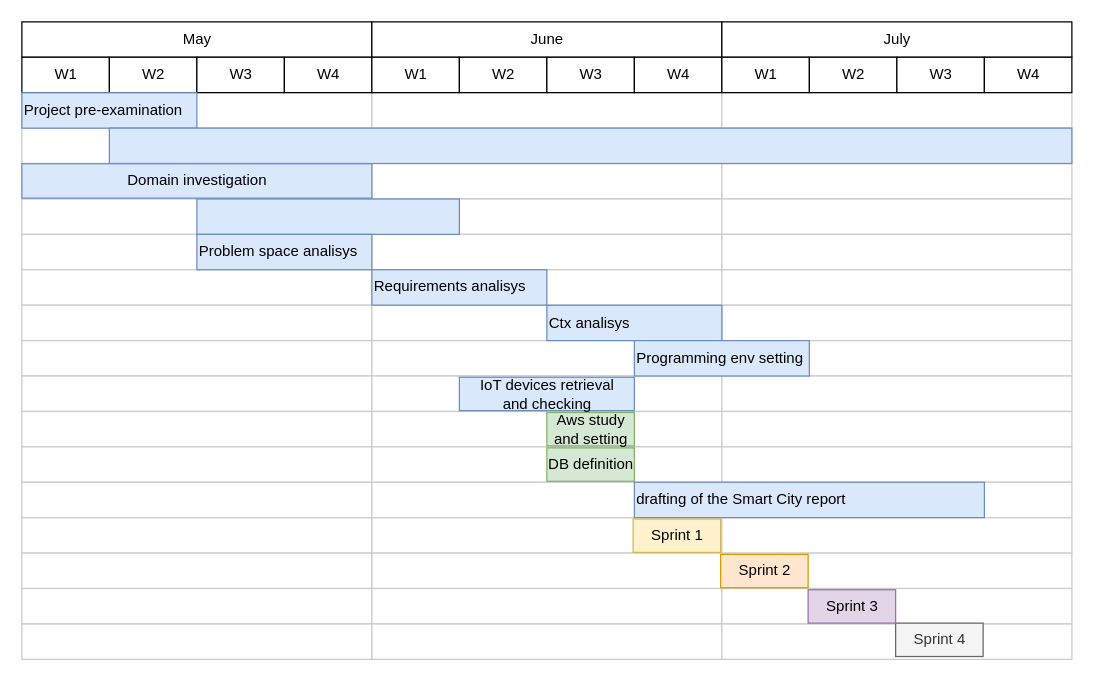
Image size: 1094x681. Some labels were removed from this diagram. The box of each missing label's shape, as (x1, y1, x2, y2) in pixels:
drafting of the LSS report: (108, 127, 1072, 164)
Repository setting and automathization: (196, 198, 459, 234)
